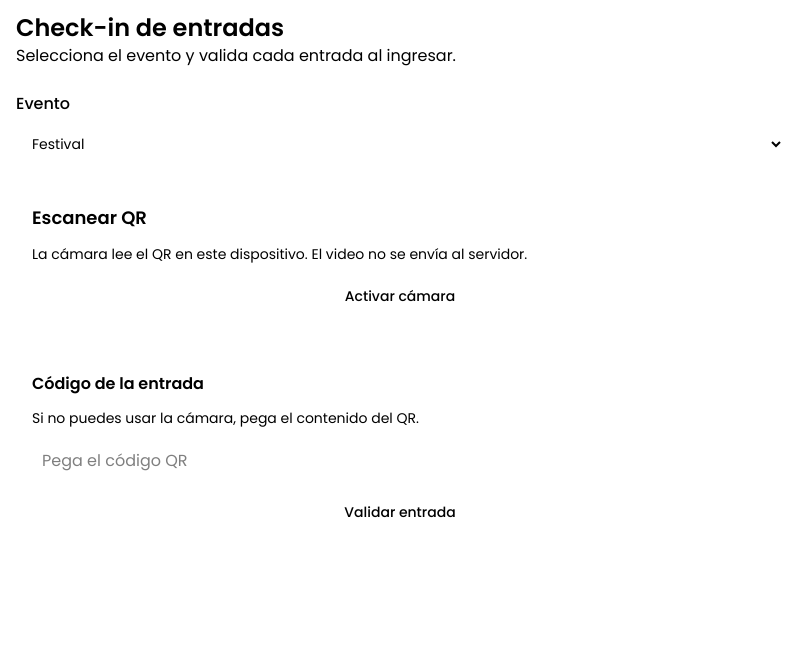
Scenario: Check-in con QR › solo envía el código al confirmar, al endpoint del evento y sin exponerlo en la URL
The image size is (801, 669).
Step 1. Type "opaque-private-code" into the field labelled "Código de la entrada" → (400, 460), box [32,440,768,480]
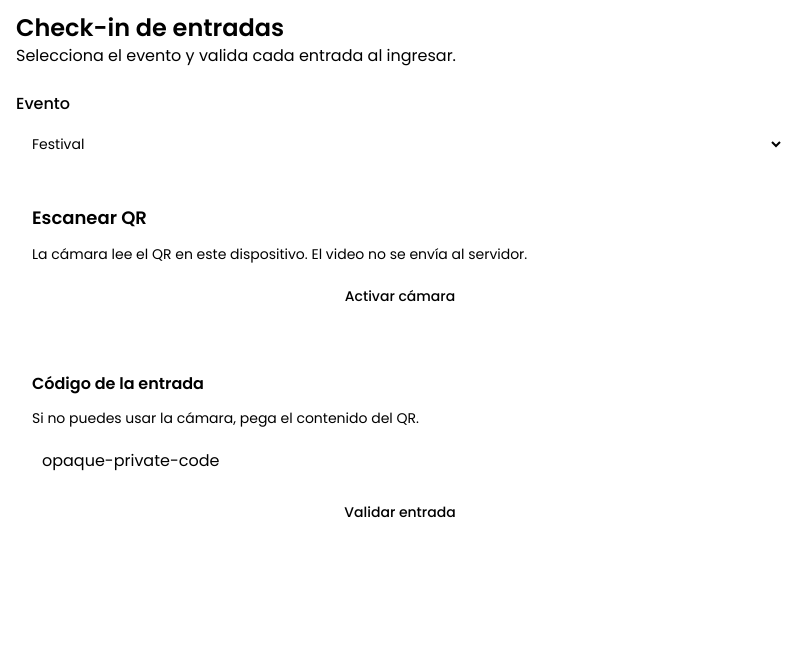
Step 2. Click the button "Validar entrada" → (400, 512), box [32,492,768,532]
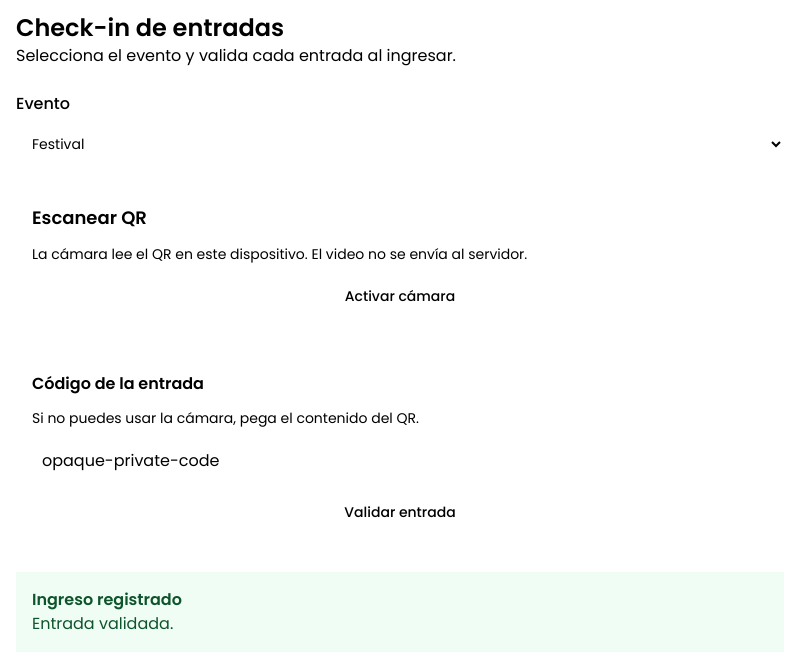
Check: the text "Ingreso registrado" is shown, box [32,588,182,611]
